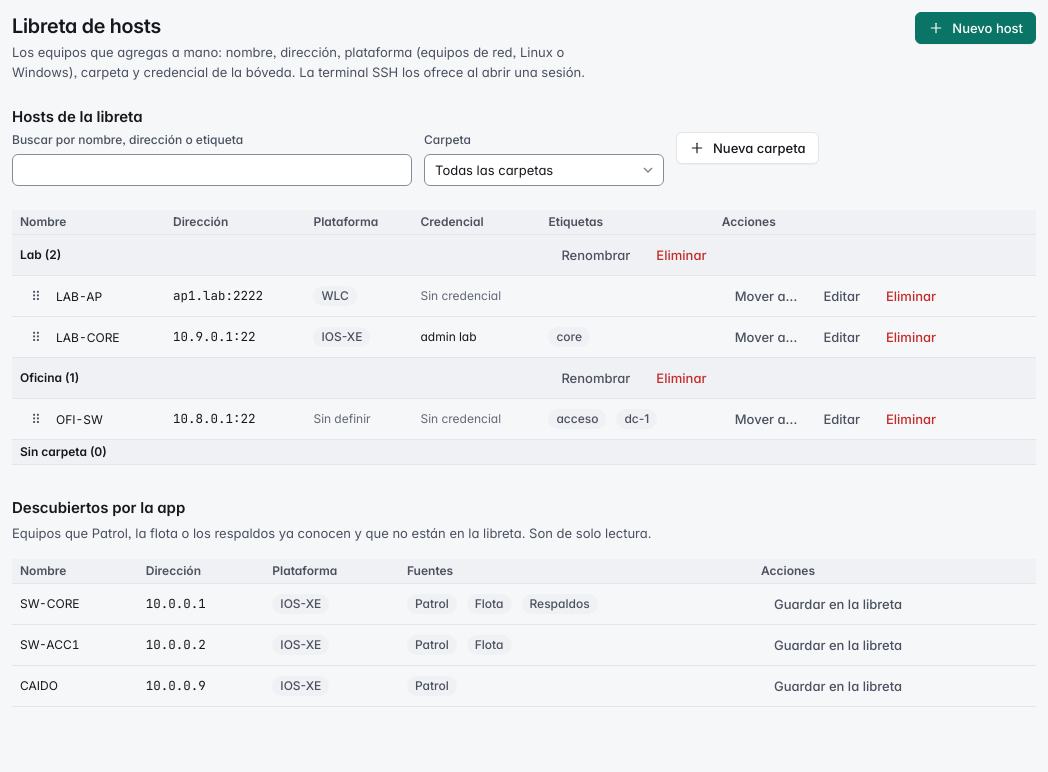
Test: editar manda el id del host y conserva lo que no se tocó
The image size is (1048, 772).
Click the button with aria-label "Editar LAB-AP". click: {"x": 842, "y": 296}
box: [810, 280, 873, 312]
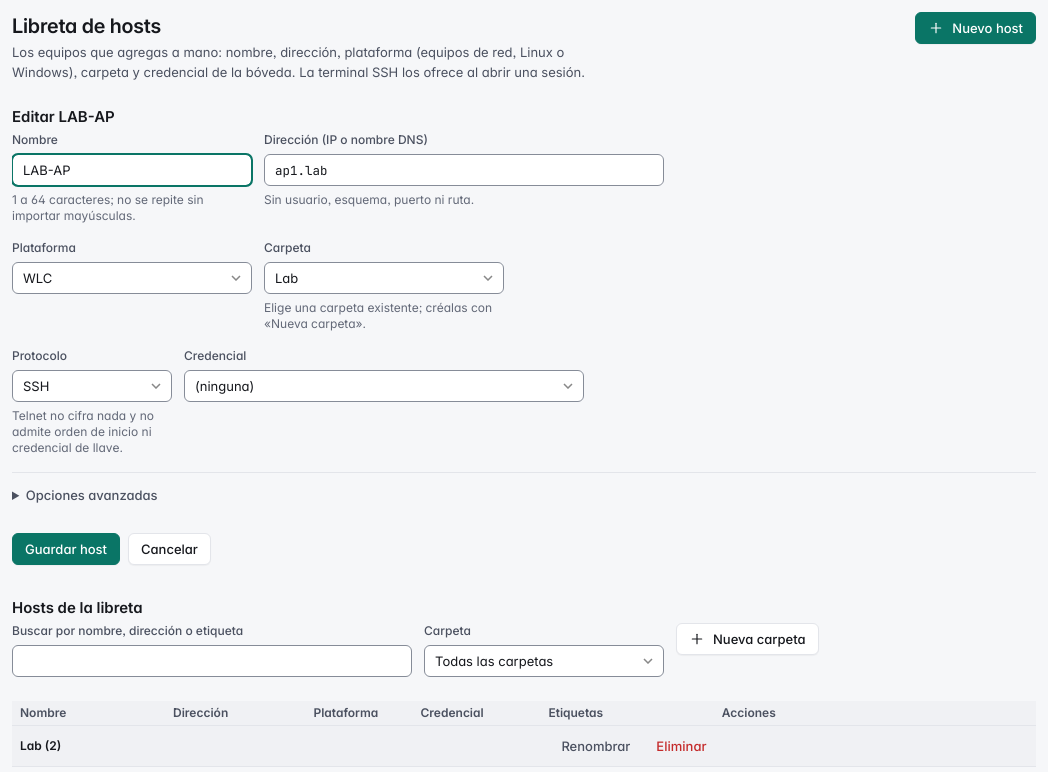
Expected: the element named "Puerto" holds "2222", [12, 472, 1036, 517]
Select "Oficina" in the dropdown labelled "Carpeta" below "Sin usuario, esquema, puerto ni ruta.". click: {"x": 384, "y": 278}
box: [264, 262, 504, 294]
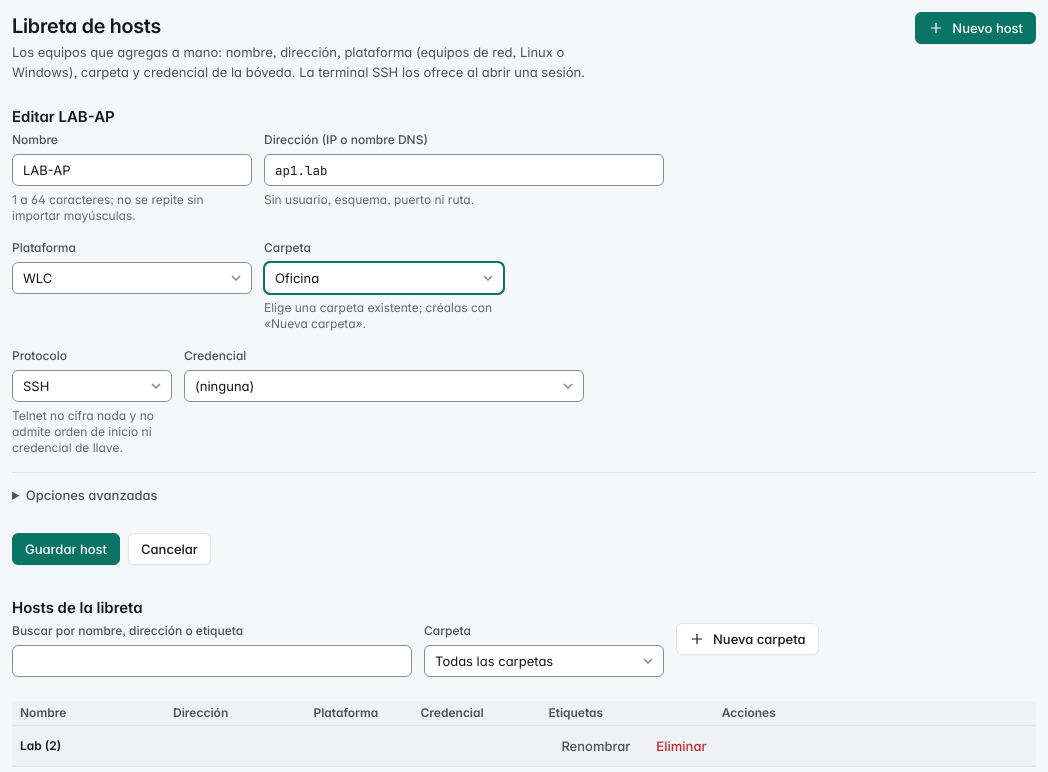
Click the button "Guardar host". click: {"x": 66, "y": 549}
box: [12, 533, 120, 565]
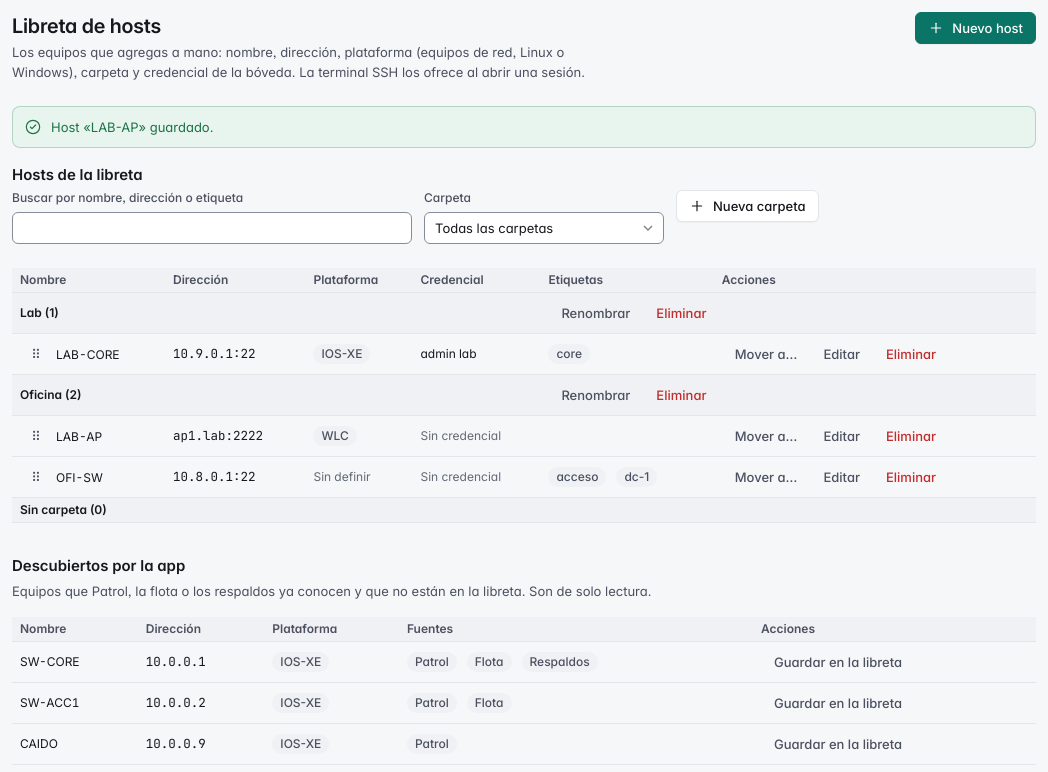
Expected: the column heading "Oficina (2)" is shown, [12, 374, 540, 416]
